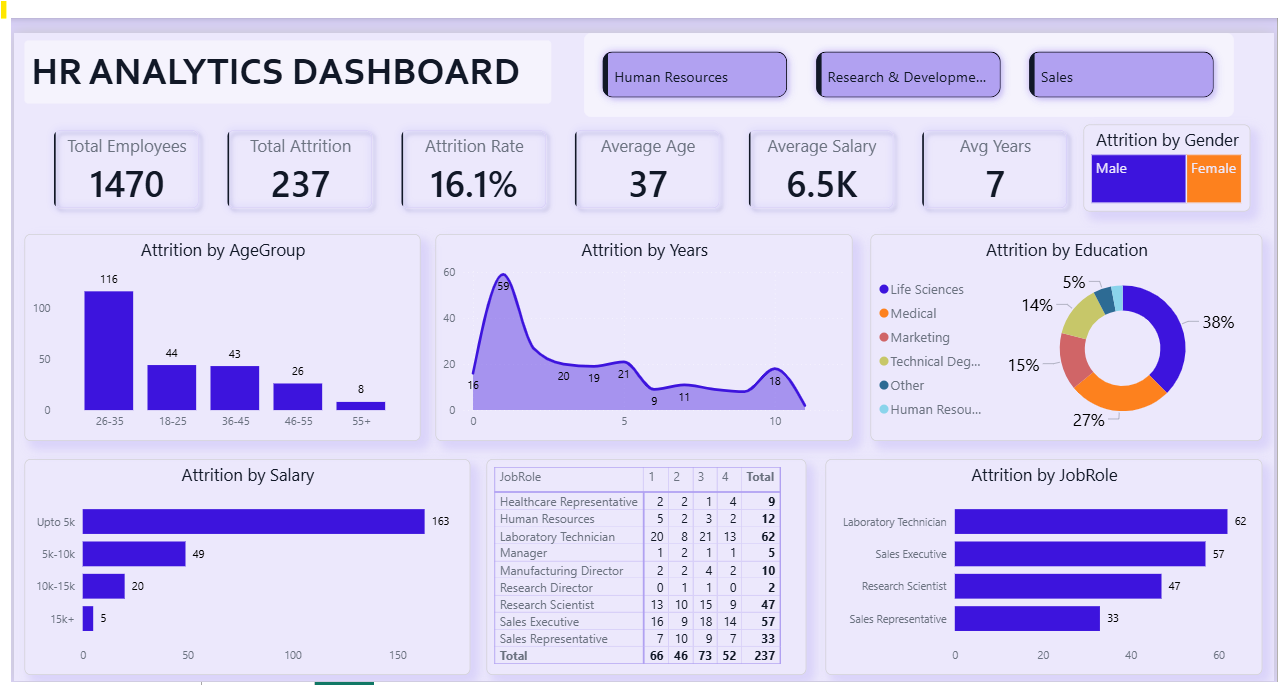

This screenshot's page, from the dashboard's own definition file:
{"tool":"powerbi","page":{"name":"Page 1","canvas":[1400,720],"ordinal":0},"visuals":[{"type":"cardVisual","fields":{"Data":["Count(HR_Analytics.EmpID)","Sum(HR_Analytics.AttritionCount)","HR_Analytics.Att_Rate","Avg(HR_Analytics.Age)","Avg(HR_Analytics.MonthlyIncome)","Avg(HR_Analytics.YearsAtCompany)"]},"box":[15,77.8,1186.7,145],"z":0},{"type":"clusteredColumnChart","title":"Attrition by AgeGroup","fields":{"Category":["HR_Analytics.AgeGroup"],"Y":["Sum(HR_Analytics.AttritionCount)"]},"box":[11.7,222.8,440,230],"z":1000},{"type":"donutChart","fields":{"Y":["Sum(HR_Analytics.AttritionCount)"],"Category":["HR_Analytics.EducationField"]},"box":[951.7,222.8,435,230],"z":2000},{"type":"pivotTable","fields":{"Rows":["HR_Analytics.JobRole"],"Columns":["HR_Analytics.JobSatisfaction"],"Values":["Sum(HR_Analytics.AttritionCount)"]},"box":[525,472.8,355,240],"z":3000},{"type":"clusteredBarChart","title":"Attrition by Salary","fields":{"Category":["HR_Analytics.SalarySlab"],"Y":["Sum(HR_Analytics.AttritionCount)"]},"box":[11.7,473.3,495,240],"z":4000},{"type":"clusteredBarChart","title":"Attrition by JobRole","fields":{"Y":["Sum(HR_Analytics.AttritionCount)"],"Category":["HR_Analytics.JobRole"]},"box":[901.7,472.8,485,240],"z":5000},{"type":"stackedAreaChart","title":"Attrition by Years","fields":{"Category":["HR_Analytics.YearsAtCompany"],"Y":["Sum(HR_Analytics.AttritionCount)"]},"box":[468.3,222.8,463.3,230],"z":6000},{"type":"treemap","fields":{"Group":["HR_Analytics.Gender"],"Values":["Sum(HR_Analytics.AttritionCount)"]},"box":[1188.3,101.7,185,96.7],"z":7000},{"type":"advancedSlicerVisual","fields":{"Values":["HR_Analytics.Department"]},"box":[633.3,0,721.7,93.3],"z":8000},{"type":"textbox","box":[11.7,8.3,585,70],"z":9000}]}

Visuals, with their boxes on the page's 1400x720 design canvas (x1, y1, x2, y2). These are canvas units, not pixel positions in the 1278x685 screenshot, which may show the page scaled, cropped or inside an application window:
cardVisual - Count(HR_Analytics.EmpID) x Sum(HR_Analytics.AttritionCount): 15 78 1202 223
"Attrition by AgeGroup" clusteredColumnChart: 12 223 452 453
donutChart - Sum(HR_Analytics.AttritionCount) x HR_Analytics.EducationField: 952 223 1387 453
pivotTable - HR_Analytics.JobRole x HR_Analytics.JobSatisfaction: 525 473 880 713
"Attrition by Salary" clusteredBarChart: 12 473 507 713
"Attrition by JobRole" clusteredBarChart: 902 473 1387 713
"Attrition by Years" stackedAreaChart: 468 223 932 453
treemap - HR_Analytics.Gender x Sum(HR_Analytics.AttritionCount): 1188 102 1373 198
advancedSlicerVisual - HR_Analytics.Department: 633 0 1355 93
textbox: 12 8 597 78
